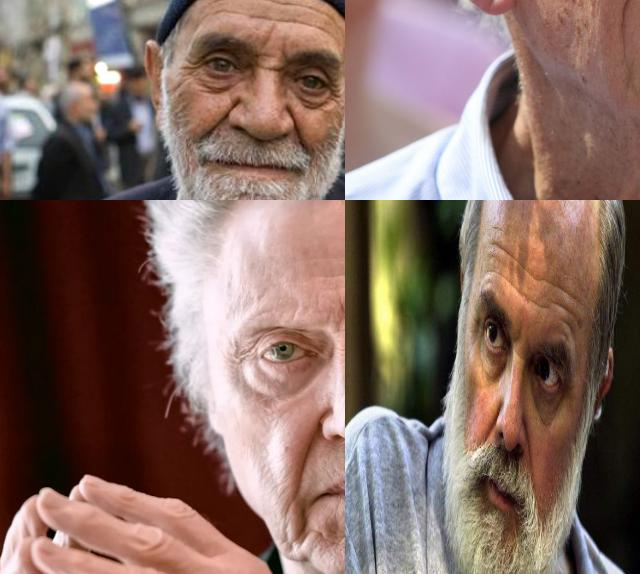crows_feet: (179, 55, 203, 83), (326, 82, 342, 108)
forehead: (258, 8, 296, 34), (527, 288, 547, 322), (525, 266, 551, 292), (210, 4, 252, 20), (492, 232, 513, 264), (555, 297, 574, 332), (300, 17, 332, 36), (304, 1, 334, 21), (317, 264, 345, 284), (503, 270, 521, 300), (257, 0, 297, 11), (554, 274, 566, 299), (210, 0, 248, 4)
frown_line: (330, 303, 345, 345), (258, 54, 284, 72), (514, 346, 524, 362)
gummy_smile: (288, 422, 324, 482), (202, 100, 230, 136), (288, 105, 306, 149), (486, 406, 496, 436)
masseter: (616, 0, 640, 42)
sad_smile: (294, 506, 314, 544)
